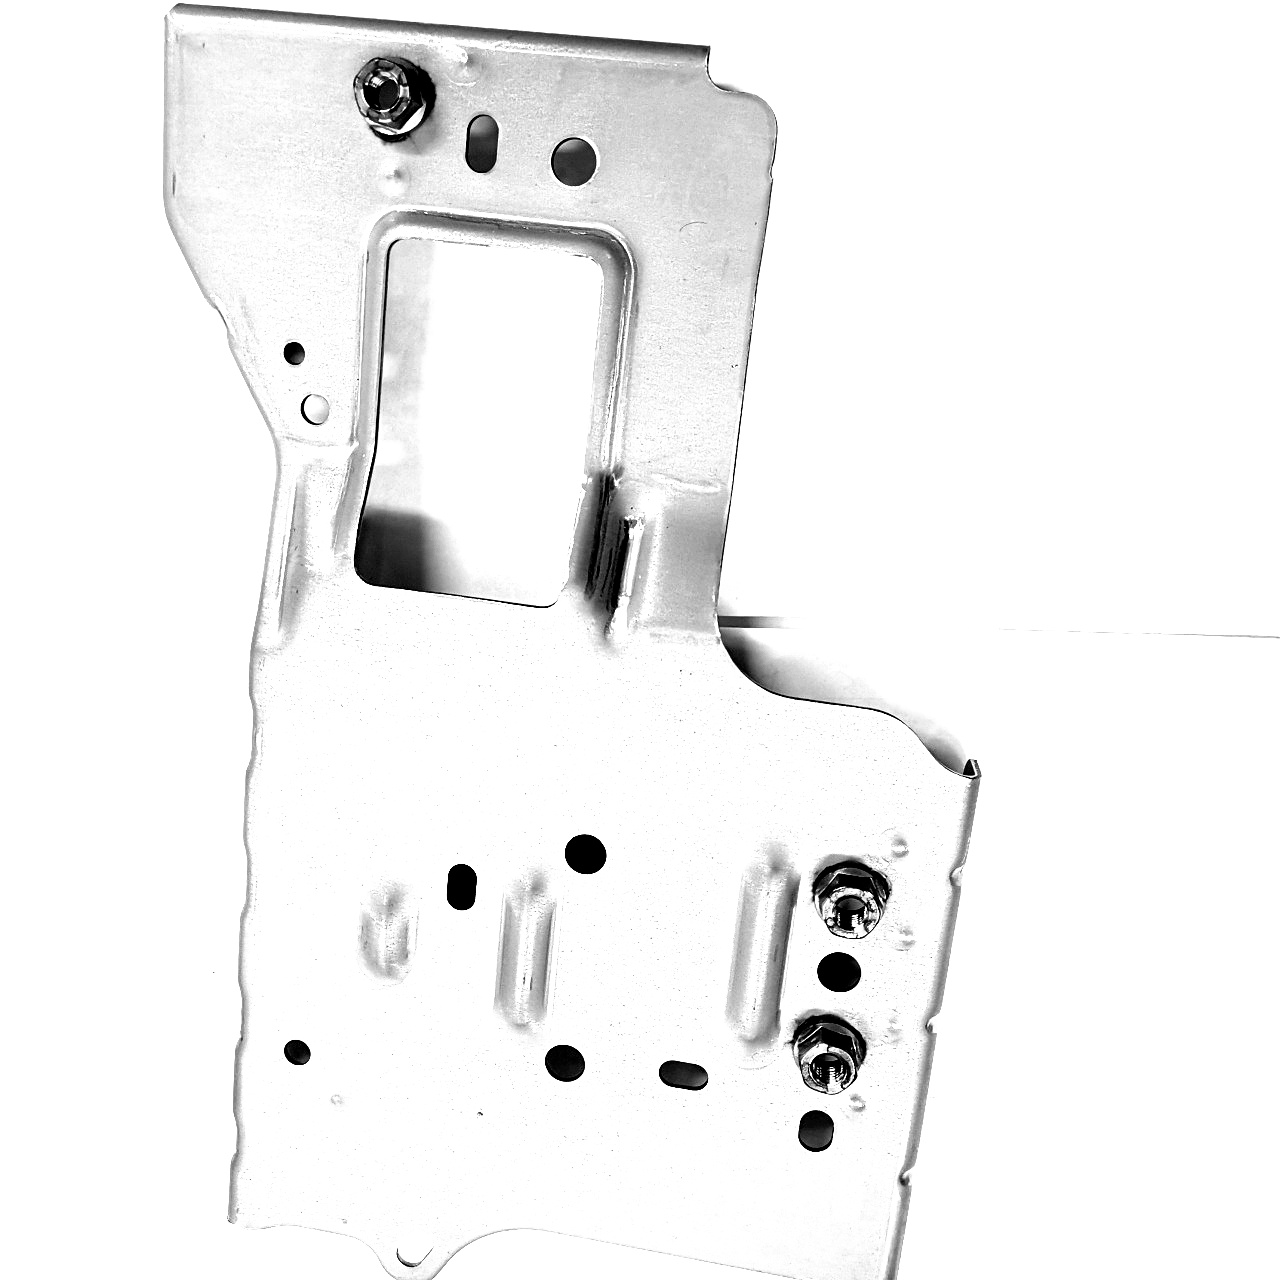dog: (350, 50, 438, 147), (806, 850, 894, 946), (787, 1010, 872, 1102)
